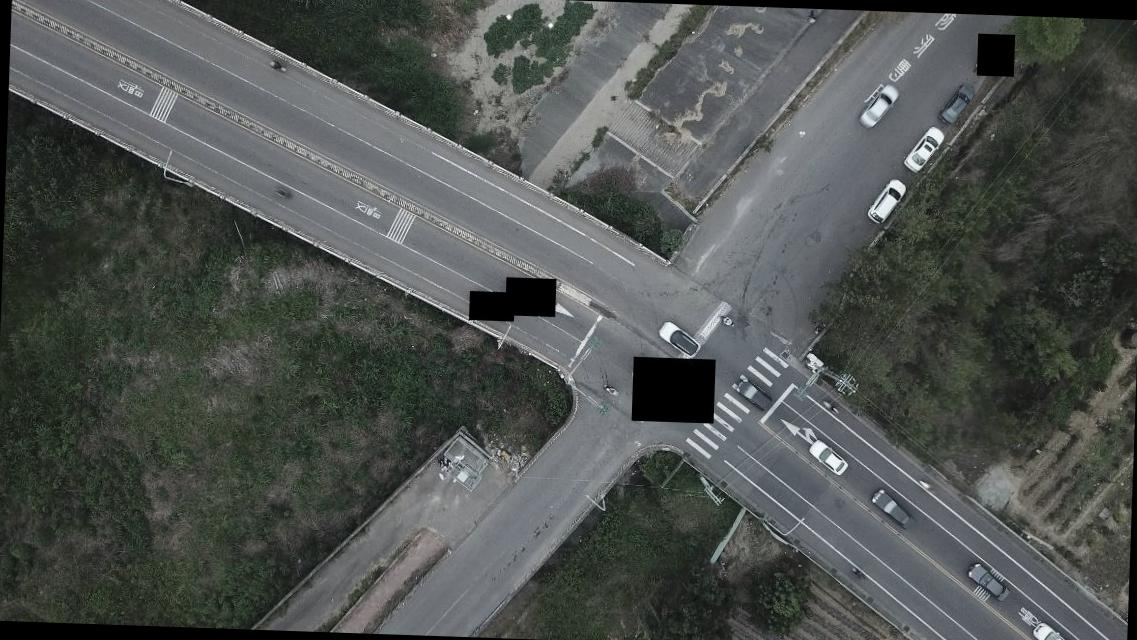vehicle: (867, 486, 915, 530), (966, 560, 1014, 603), (904, 127, 947, 174), (866, 178, 908, 226), (856, 83, 900, 128), (936, 82, 978, 126), (806, 438, 851, 475), (657, 321, 701, 356), (736, 379, 773, 411), (1029, 620, 1078, 639)
